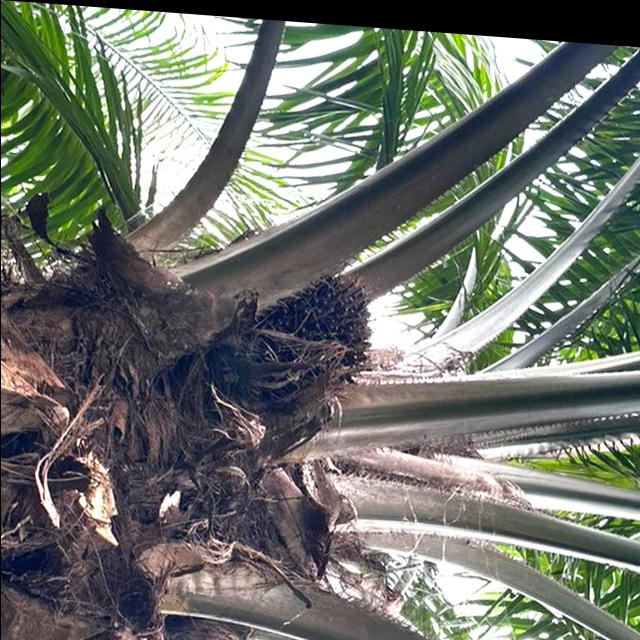unripe: (203, 242, 387, 414)
